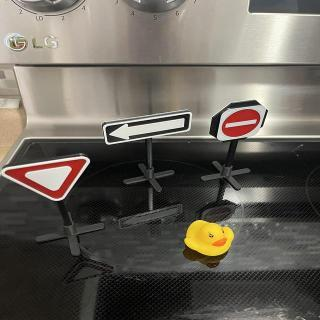duck_regular: (185, 221, 235, 257)
sign_noentry: (216, 102, 269, 145)
sign_oneway_left: (103, 112, 193, 147)
sign_yield: (2, 155, 92, 203)
